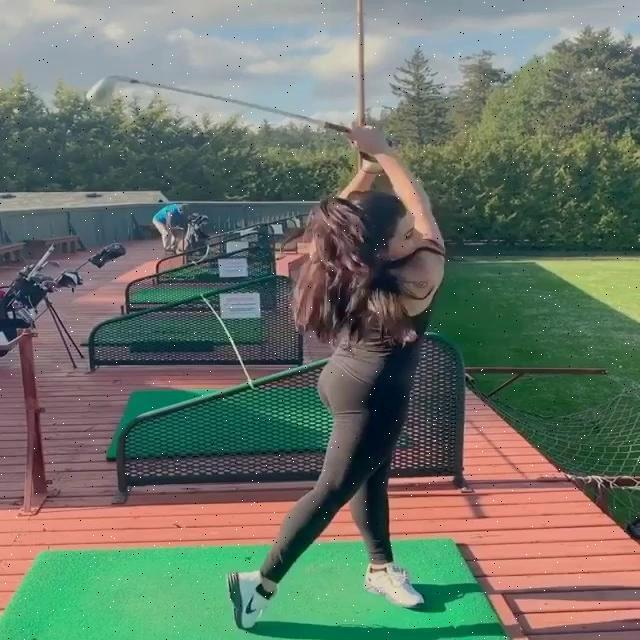ClubHead: (86, 74, 120, 105)
